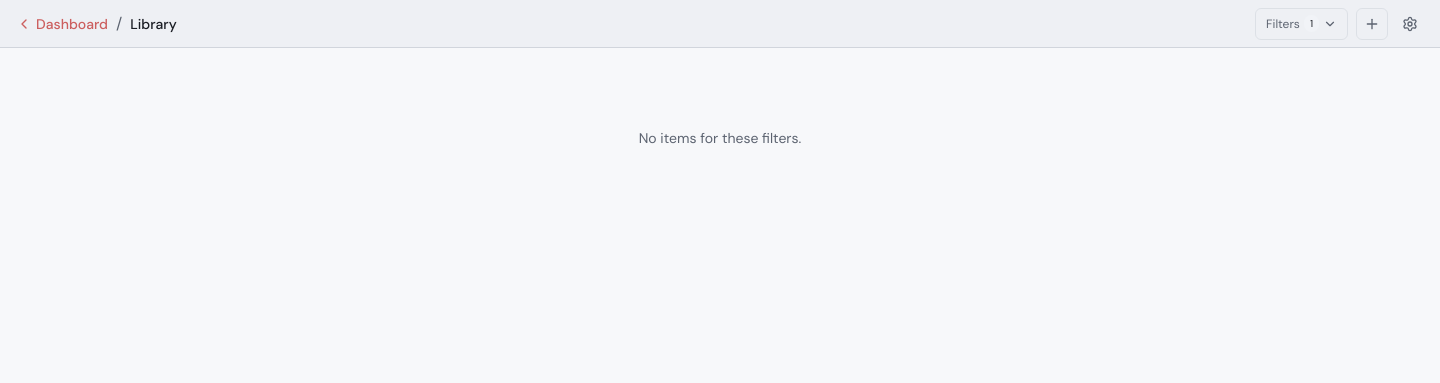
Test: LibraryBrowse › hides the panel without affecting filtered empty-state behavior
Click the button "Filters 1".
click(1302, 24)  # box [1255,8,1348,40]
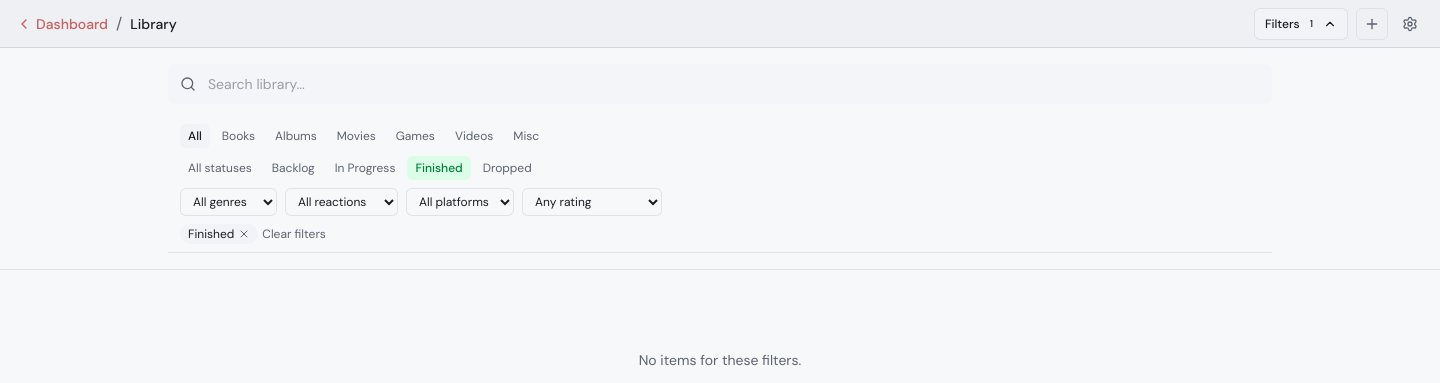
Expected: the button "All statuses" is shown, [180,156,260,180]
Click the button "Filters 1".
click(1301, 24)  # box [1254,8,1348,40]
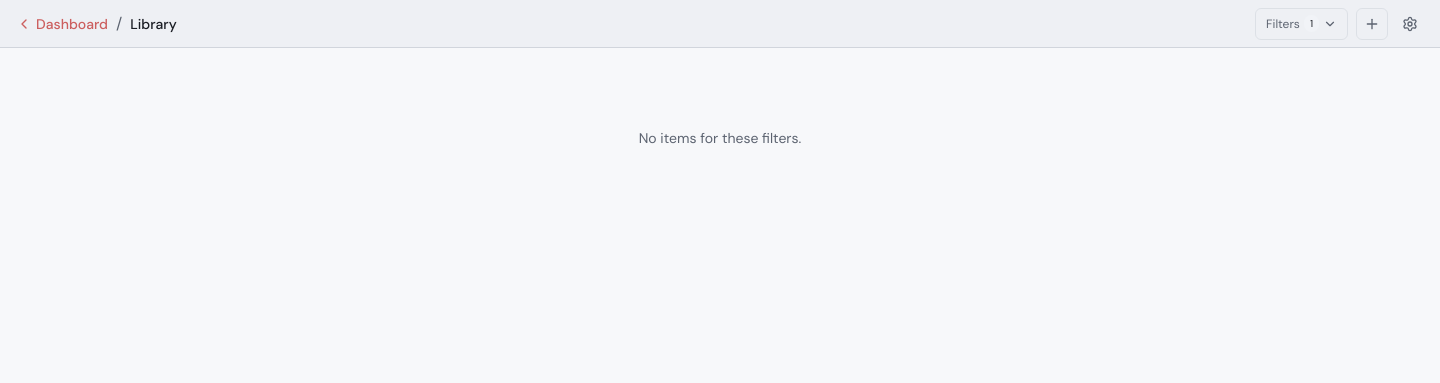
Expected: the text "No items for these filters." is shown, [639,129,801,147]
Expected: the button "All statuses" is gone
